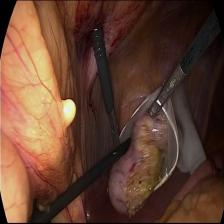Grasper: (148, 64, 186, 119), (107, 110, 123, 153)
Specimen Bag: (117, 78, 209, 192)
